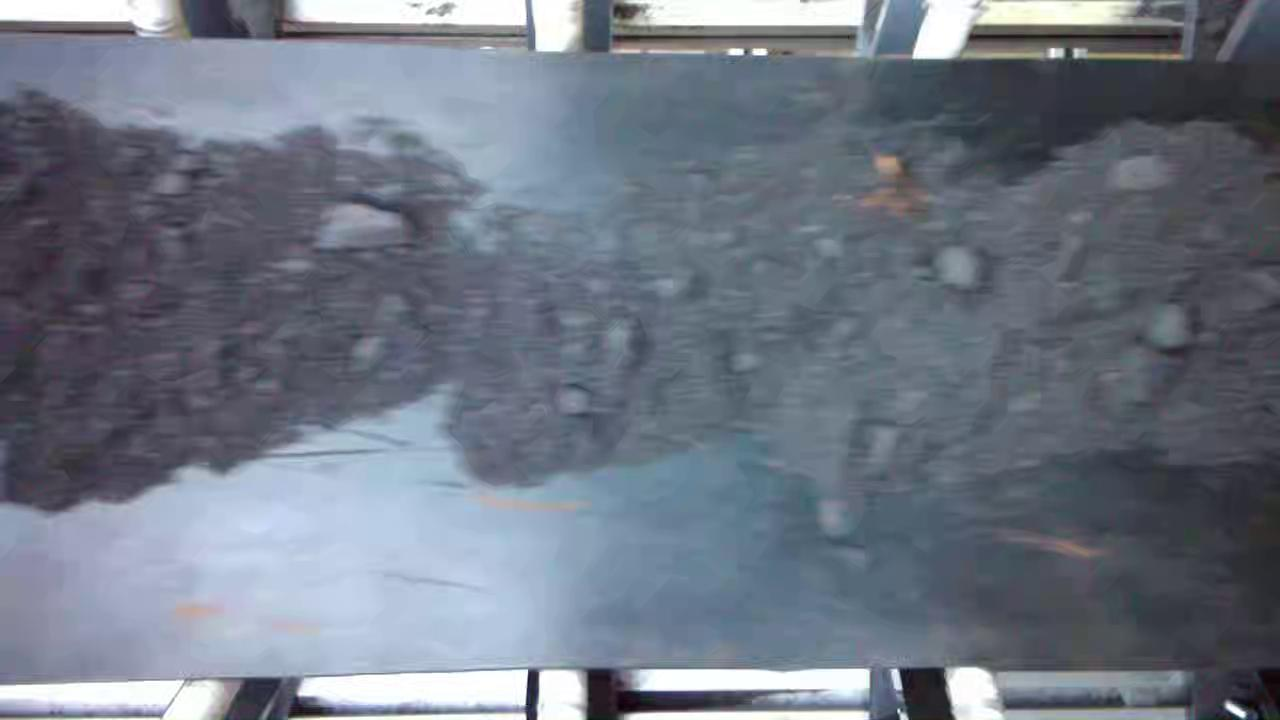conveyor: (13, 73, 1263, 646)
